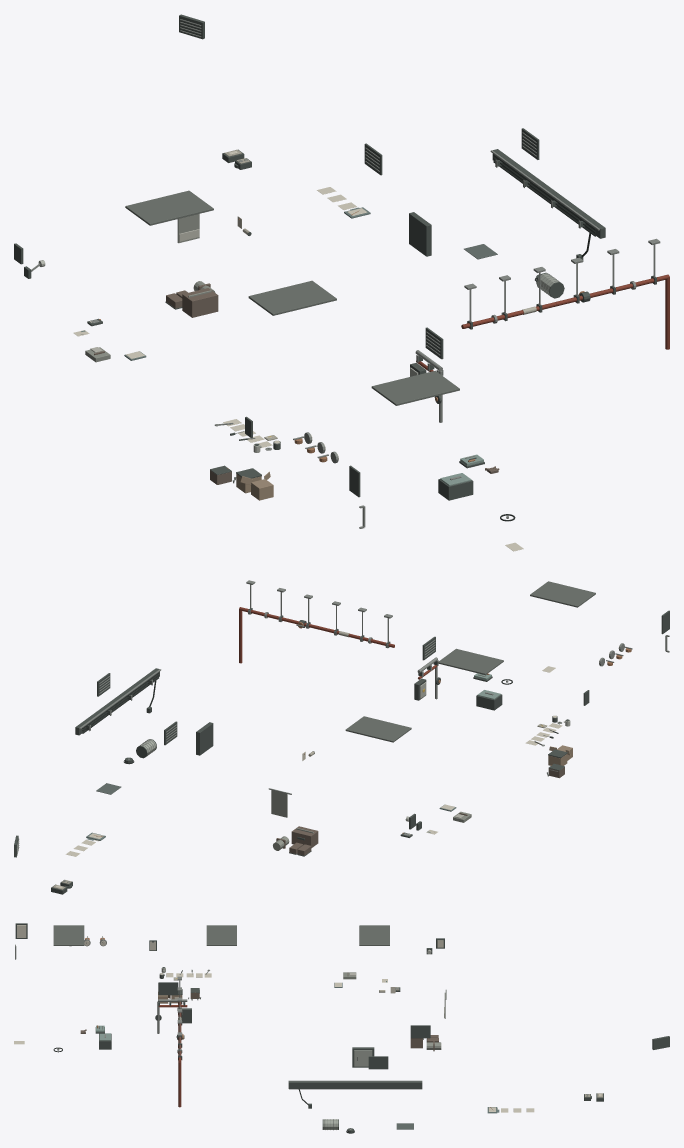
File: ship_details_b.glb
3 views of the same model, one above another, from view 1: azimuth 30°, elevation 25°; view 2: azimuth 150°, elevation 25°; view 3: azimuth 270°, elevation 25° (orthographic). The views are drawn at different scales.
Visible parts, largest first — view 1: export_detail_dark_metal, export_detail_acoustic, export_detail_brushed_steel, export_detail_vinyl, export_detail_pipe_red, export_detail_paper, export_detail_cable_rubber, export_detail_blanket; view 2: export_detail_dark_metal, export_detail_acoustic, export_detail_brushed_steel, export_detail_vinyl, export_detail_pipe_red, export_detail_blanket, export_detail_paper, export_detail_cable_rubber; view 3: export_detail_dark_metal, export_detail_acoustic, export_detail_brushed_steel, export_detail_paper, export_detail_locker, export_detail_pipe_red, export_detail_vinyl.
Part boxes in pixels (x1=…): export_detail_dark_metal: x1=14, y1=14, x2=656, y2=500; export_detail_acoustic: x1=125, y1=190, x2=459, y2=405; export_detail_brushed_steel: x1=31, y1=19, x2=660, y2=528; export_detail_vinyl: x1=94, y1=283, x2=499, y2=484; export_detail_pipe_red: x1=416, y1=274, x2=669, y2=371; export_detail_paper: x1=73, y1=151, x2=523, y2=551; export_detail_cable_rubber: x1=493, y1=154, x2=596, y2=521; export_detail_blanket: x1=85, y1=214, x2=215, y2=362; export_detail_dark_metal: x1=14, y1=608, x2=669, y2=894; export_detail_acoustic: x1=345, y1=581, x2=595, y2=742; export_detail_brushed_steel: x1=16, y1=580, x2=669, y2=882; export_detail_vinyl: x1=276, y1=767, x2=564, y2=855; export_detail_pipe_red: x1=239, y1=607, x2=437, y2=679; export_detail_blanket: x1=271, y1=790, x2=471, y2=850; export_detail_paper: x1=55, y1=644, x2=620, y2=887; export_detail_cable_rubber: x1=82, y1=672, x2=512, y2=764; export_detail_dark_metal: x1=15, y1=923, x2=669, y2=1132; export_detail_acoustic: x1=53, y1=925, x2=389, y2=945; export_detail_brushed_steel: x1=15, y1=936, x2=588, y2=1130; export_detail_paper: x1=14, y1=925, x2=601, y2=1112; export_detail_locker: x1=323, y1=1050, x2=372, y2=1129; export_detail_pipe_red: x1=158, y1=1001, x2=187, y2=1107; export_detail_vinyl: x1=80, y1=972, x2=438, y2=1051.
Bounding box in the file's own units: 8.77 × 2.62 × 17.17.
